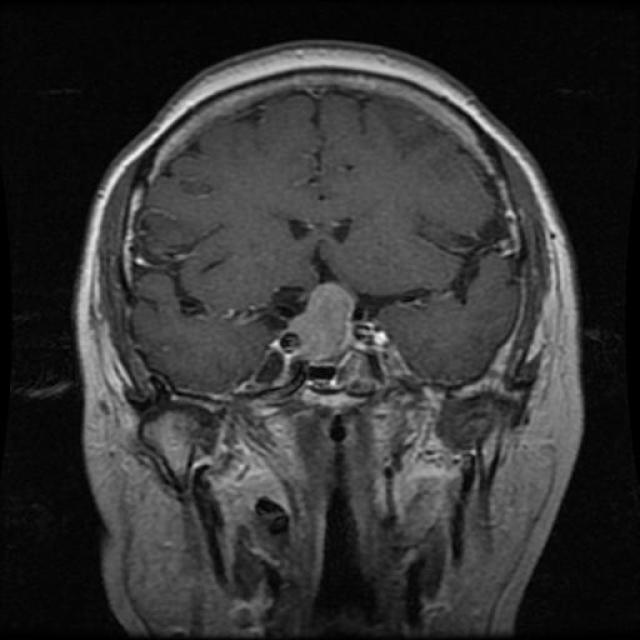pituitary: (284, 269, 366, 372)
